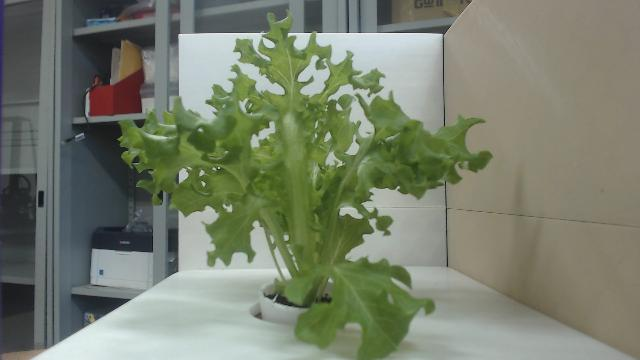Harvest Stage: (120, 11, 492, 357)
